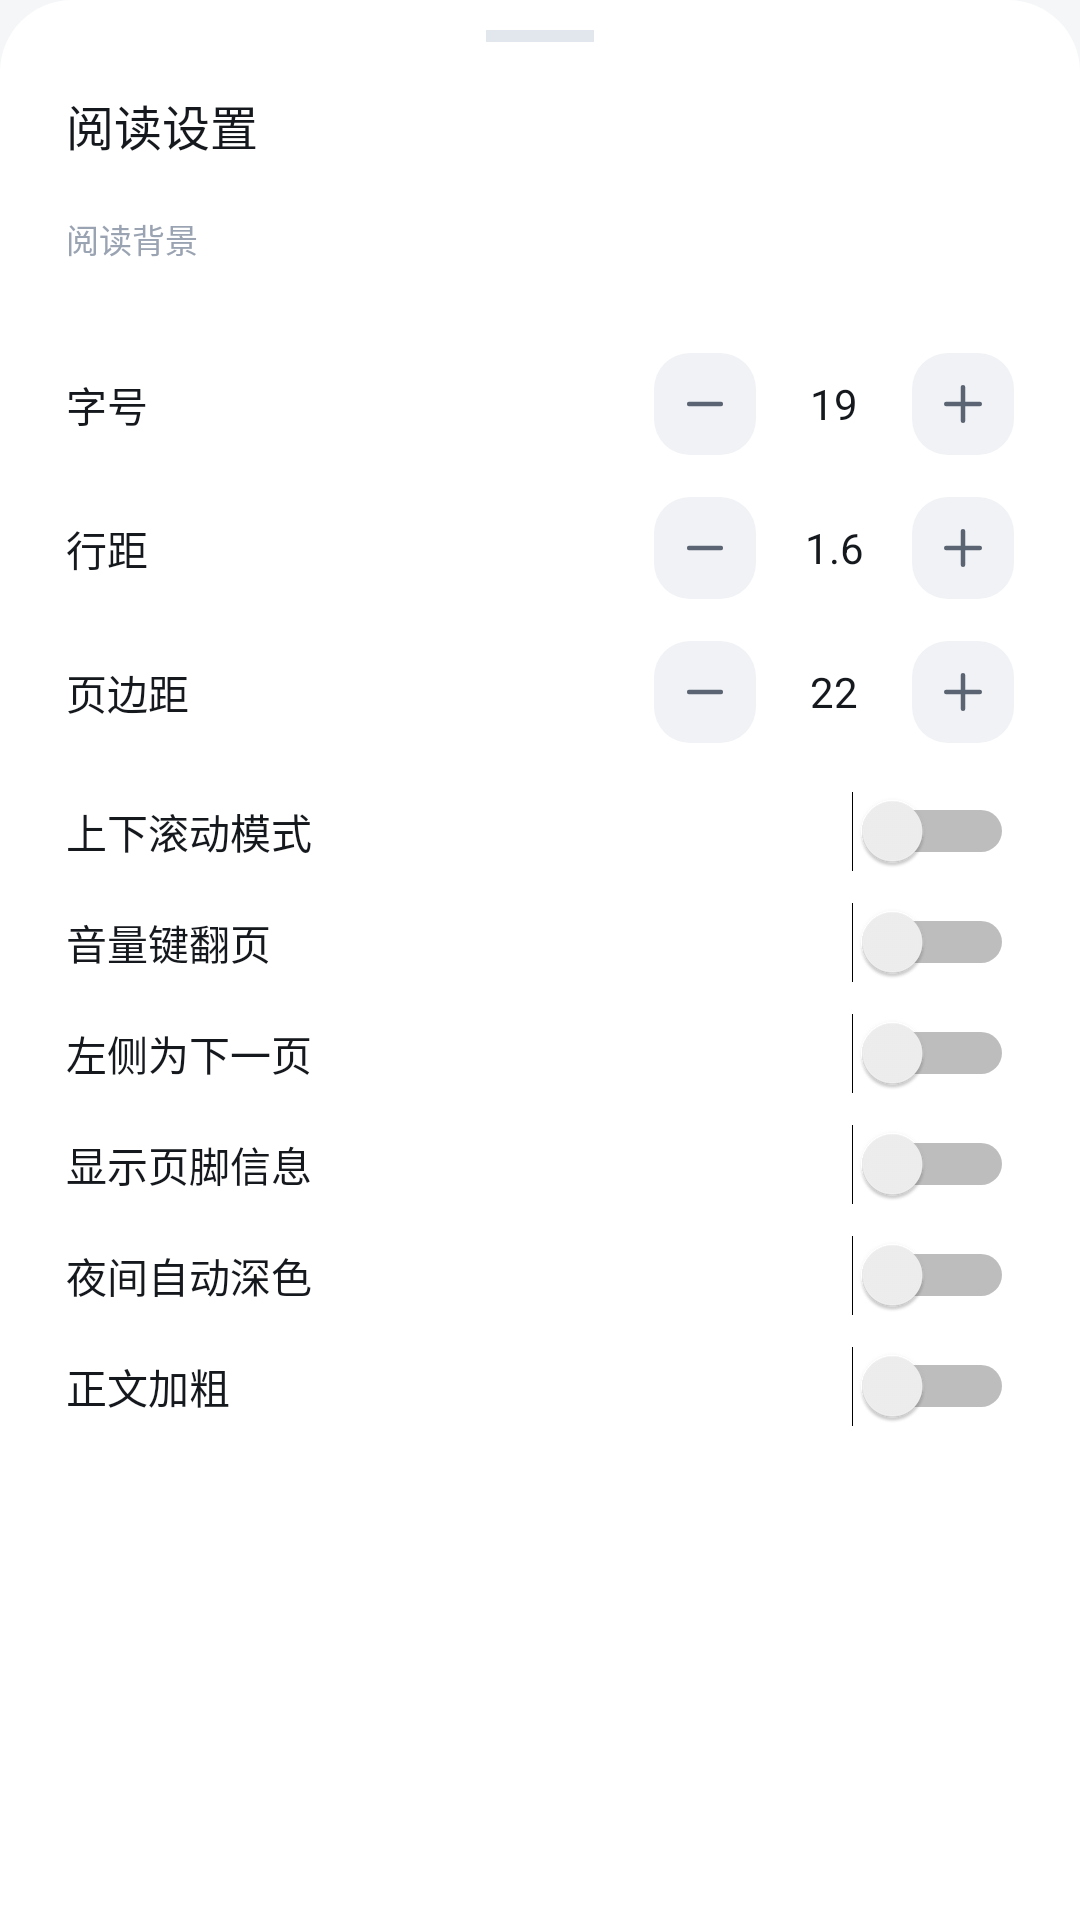

Where icons sit on this 1080px×1920px app screen, as region(x1, y1, x2, y2):
add: region(912, 353, 1014, 455), region(912, 497, 1014, 599), region(912, 641, 1014, 743)
minus: region(687, 401, 723, 407), region(687, 545, 723, 551), region(687, 689, 723, 695)
